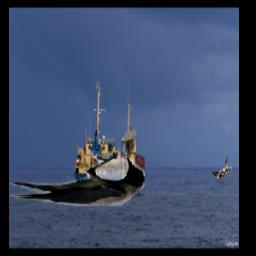Crow: (10, 153, 146, 207)
Woodpecker: (212, 155, 232, 178)
